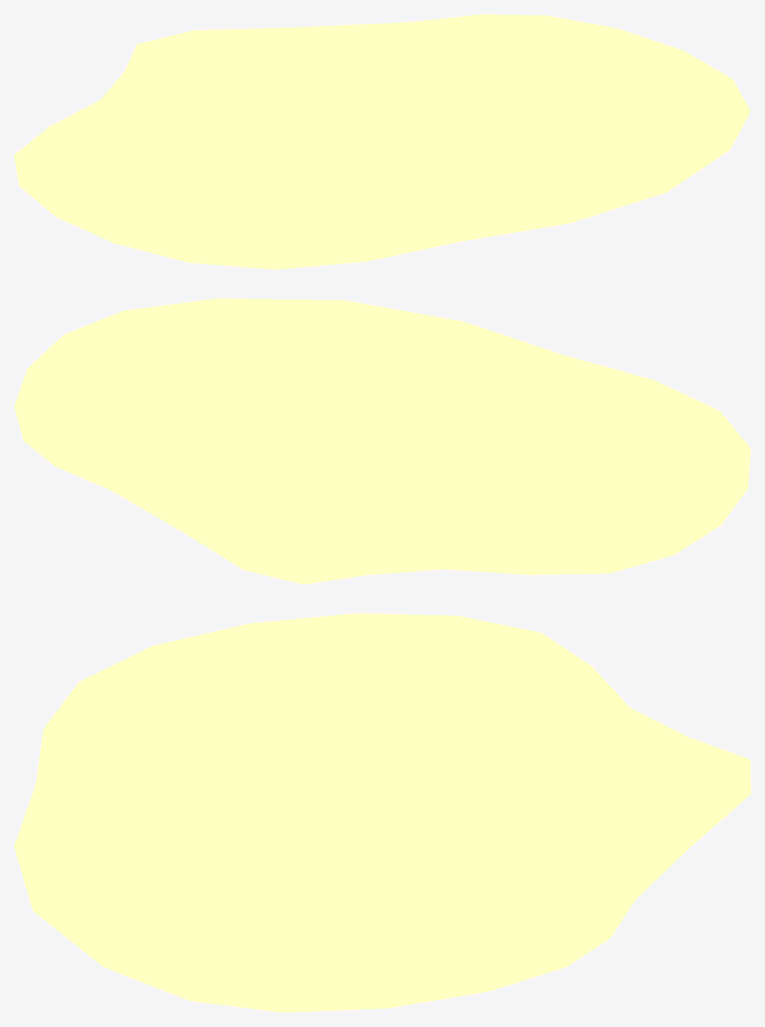
File: water.glb
3 renders of one model, top to bottom at view 1: azimuth 30°, elevation 25°; view 2: azimuth 150°, elevation 25°; view 3: azimuth 270°, elevation 25°, orthographic. The views are drawn at different scales.
Visible parts, largest first — view 1: Cylinder.004; view 2: Cylinder.004; view 3: Cylinder.004.
Boxes of the visible parts, bbox=[...] form: Cylinder.004: bbox=[14, 14, 750, 269]; Cylinder.004: bbox=[14, 298, 750, 584]; Cylinder.004: bbox=[14, 613, 750, 1012].
Size of the model in its own units: 6.06 by 0 by 4.72.
